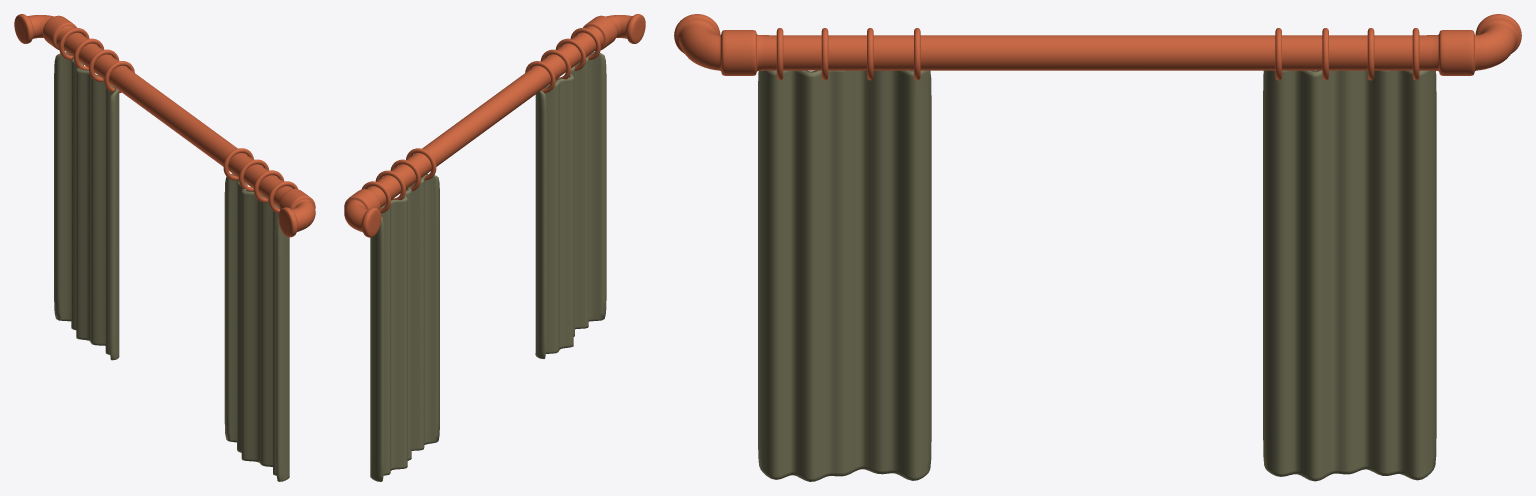
File: curtains.obj
The picture shows the model from 3 angles, left to right: view 1: azimuth 30°, elevation 25°; view 2: azimuth 150°, elevation 25°; view 3: azimuth 270°, elevation 25°; orthographic projection. The views are drawn at different scales.
Visible parts, largest first — view 1: Plane.020, Plane.021, Cylinder.018, Cylinder.019; view 2: Plane.021, Plane.020, Cylinder.018, Cylinder.019; view 3: Plane.021, Plane.020, Cylinder.018, Cylinder.019.
Part boxes in pixels (bbox=[...]): Plane.020: bbox=[54, 52, 119, 360]; Plane.021: bbox=[224, 173, 289, 481]; Cylinder.018: bbox=[14, 14, 315, 237]; Cylinder.019: bbox=[59, 28, 297, 213]; Plane.021: bbox=[535, 52, 606, 358]; Plane.020: bbox=[370, 174, 439, 481]; Cylinder.018: bbox=[344, 14, 645, 237]; Cylinder.019: bbox=[361, 28, 600, 213]; Plane.021: bbox=[758, 70, 931, 481]; Plane.020: bbox=[1263, 70, 1436, 481]; Cylinder.018: bbox=[674, 14, 1521, 75]; Cylinder.019: bbox=[776, 28, 1419, 80].
Size of the model in its own units: 0.3632 by 2.45 by 4.22.
